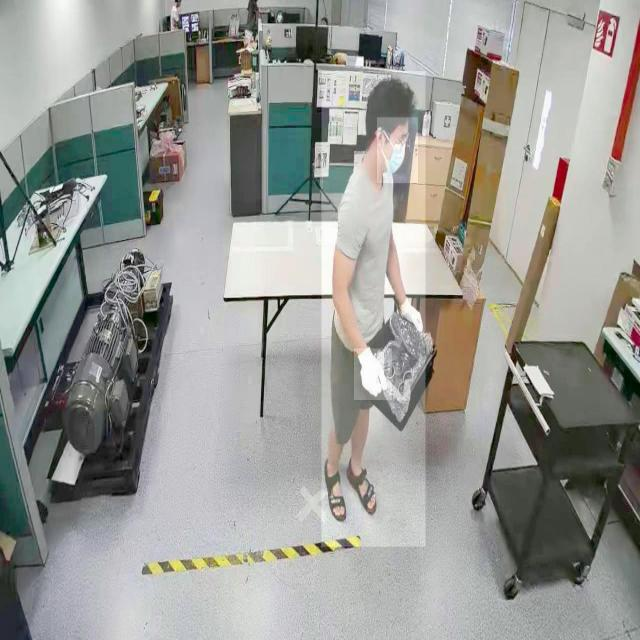face_mask: (377, 117, 418, 183)
hand_glove: (354, 348, 392, 401)
head_nohelmet: (367, 78, 415, 116)
person: (321, 71, 425, 548), (167, 1, 181, 32)
